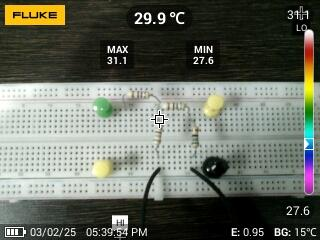resistor: (125, 89, 152, 102), (190, 125, 202, 152), (152, 121, 163, 150), (159, 102, 189, 112)
